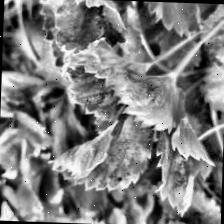Powdery Mildew Leaf: (44, 110, 156, 193), (62, 60, 178, 134)
